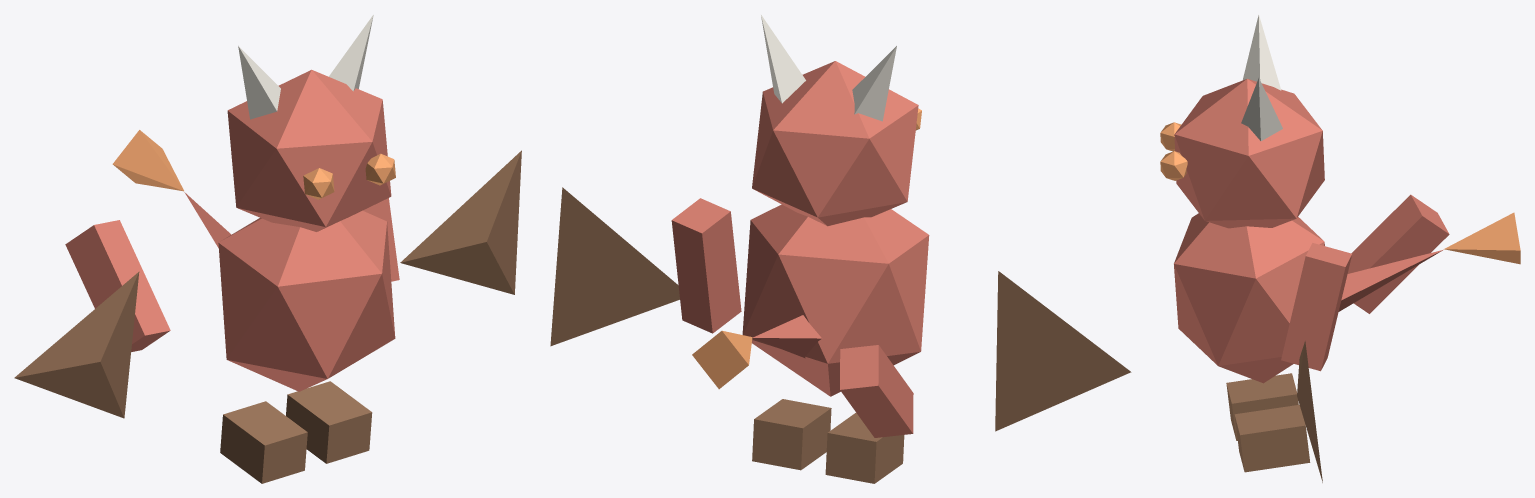
Rendered from npcpose_imp_attack_02.glb.
The picture shows the model from 3 angles, left to right: view 1: azimuth 30°, elevation 25°; view 2: azimuth 150°, elevation 25°; view 3: azimuth 270°, elevation 25°; orthographic projection. The views are drawn at different scales.
Parts seen in each view (by area): view 1: npcpose; view 2: npcpose; view 3: npcpose.
Part boxes in pixels (<box>): npcpose: <box>14,15,521,483</box>; npcpose: <box>550,15,1131,483</box>; npcpose: <box>1160,14,1520,482</box>.
Size of the model in its own units: 1.4 by 1.07 by 0.8672.
